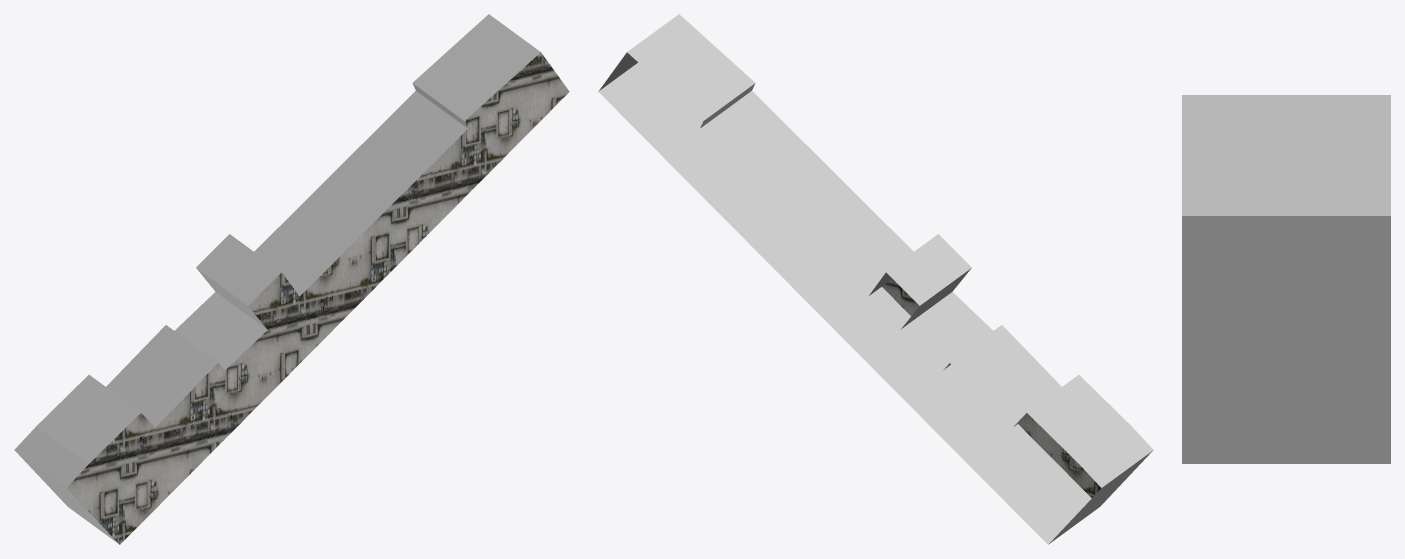
Rendered from geospecific_1175.obj.
3 renders of one model, left to right at view 1: azimuth 30°, elevation 25°; view 2: azimuth 150°, elevation 25°; view 3: azimuth 270°, elevation 25°, orthographic. The views are drawn at different scales.
Visible parts, largest first — view 1: Building; view 2: Building; view 3: Building.
Boxes of the visible parts, x1,y1,x2,y2 form: Building: (14,14,569,544); Building: (598,14,1153,544); Building: (1182,95,1390,463).
Bounding box in the file's own units: 66.81 × 49.48 × 12.
